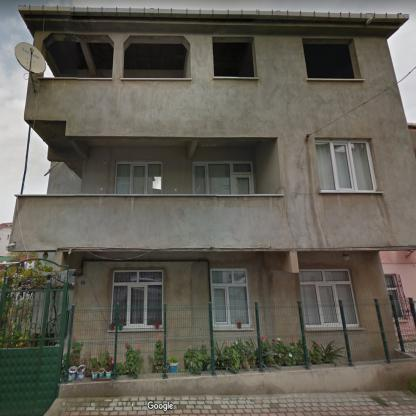window: (301, 268, 357, 325), (316, 143, 374, 190), (112, 272, 162, 325), (212, 270, 250, 324), (194, 165, 249, 194), (116, 165, 160, 194), (386, 276, 402, 314)
